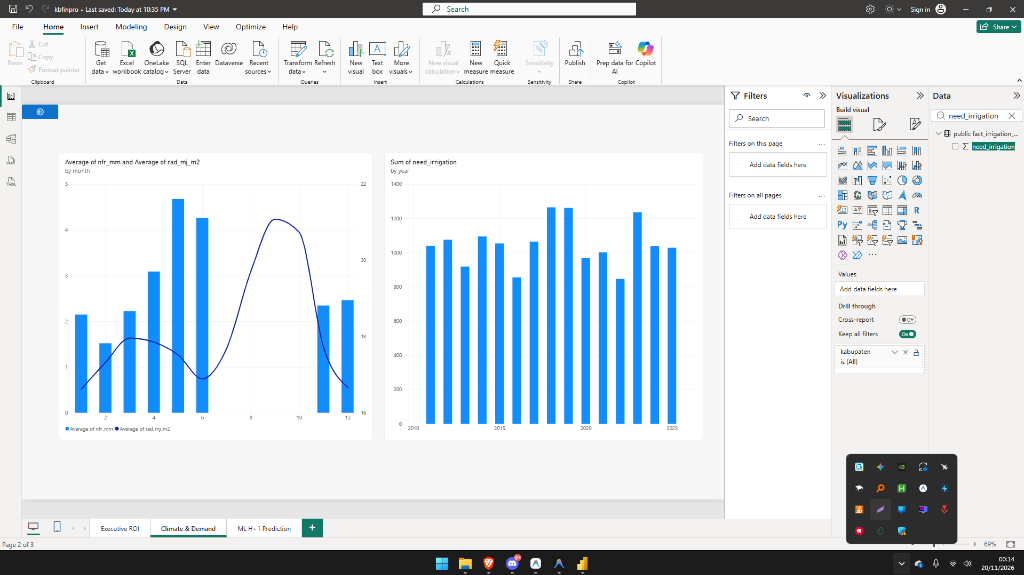

This screenshot's page, from the dashboard's own definition file:
{"tool":"powerbi","page":{"name":"Climate & Demand ","canvas":[1920,1080],"ordinal":1},"visuals":[{"type":"actionButton","box":[0,0,100,40],"z":0},{"type":"lineStackedColumnComboChart","fields":{"Category":["public dim_date.month"],"Y":["Avg(public fact_irrigation_daily.nfr_mm)"],"Y2":["Avg(public fact_irrigation_daily.rad_mj_m2)"]},"box":[100.7,131.3,859.3,786.4],"z":1000},{"type":"clusteredColumnChart","fields":{"Category":["public dim_date.year"],"Y":["Sum(public fact_irrigation_daily.need_irrigation)"]},"box":[990.6,131.3,872.5,786.4],"z":2000}]}

Visuals, with their boxes on the page's 1920x1080 design canvas (x1, y1, x2, y2). These are canvas units, not pixel positions in the 1024x575 screenshot, which may show the page scaled, cropped or inside an application window:
actionButton: (0,0,100,40)
lineStackedColumnComboChart - public dim_date.month x Avg(public fact_irrigation_daily.nfr_mm): (101,131,960,918)
clusteredColumnChart - public dim_date.year x Sum(public fact_irrigation_daily.need_irrigation): (991,131,1863,918)
